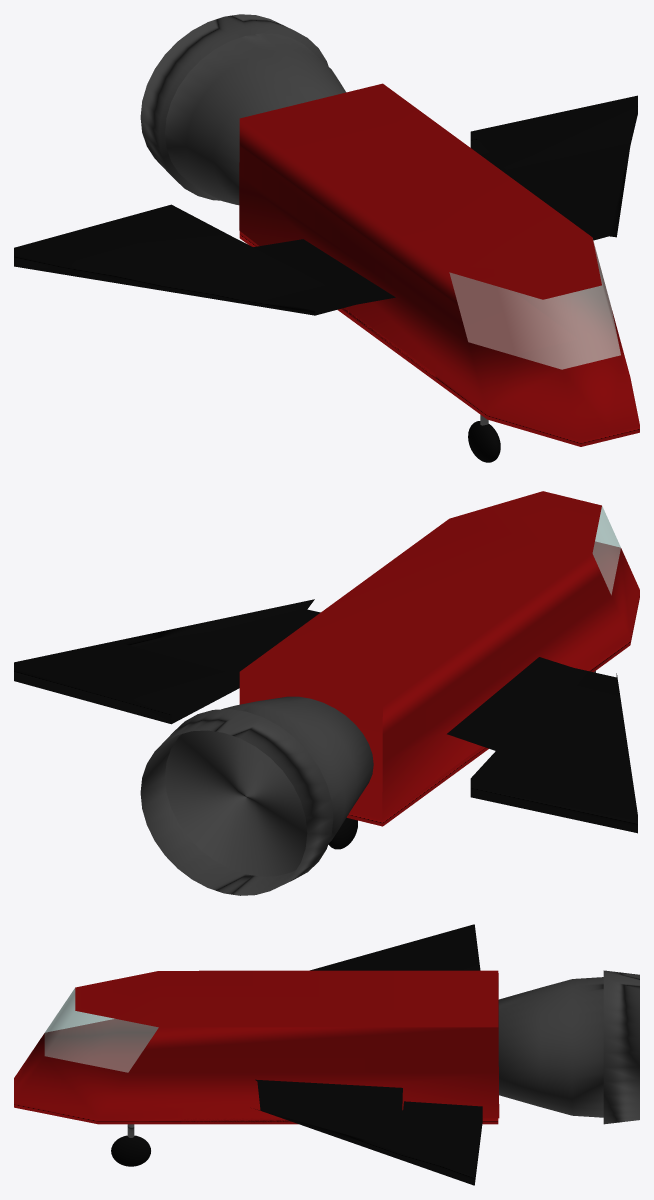
File: Spaceship.fbx
3 renders of one model, top to bottom at view 1: azimuth 30°, elevation 25°; view 2: azimuth 150°, elevation 25°; view 3: azimuth 270°, elevation 25°, orthographic. The views are drawn at different scales.
Parts seen in each view (by area): view 1: Body.011, Body.021, Body.006, Body.001, Body.012, Body.003, Body.002, Body, Body.017; view 2: Body.011, Body.021, Body.006, Body.003, Body.017, Body.002, Body.001, Body.012, Body; view 3: Body.011, Body.006, Body.021, Body.003, Body.001, Body.012, Body, Body.017.
Part boxes in pixels (bbox=[...]): Body.011: bbox=[239, 83, 639, 446]; Body.021: bbox=[14, 95, 637, 462]; Body.006: bbox=[140, 14, 346, 205]; Body.001: bbox=[450, 245, 620, 369]; Body.012: bbox=[450, 246, 620, 369]; Body.003: bbox=[470, 132, 629, 237]; Body.002: bbox=[253, 244, 395, 315]; Body: bbox=[514, 241, 620, 358]; Body.017: bbox=[141, 14, 326, 199]; Body.011: bbox=[239, 491, 639, 826]; Body.021: bbox=[14, 604, 637, 849]; Body.006: bbox=[140, 696, 373, 895]; Body.003: bbox=[145, 599, 320, 721]; Body.017: bbox=[141, 709, 332, 895]; Body.002: bbox=[485, 657, 619, 725]; Body.001: bbox=[593, 506, 620, 594]; Body.012: bbox=[593, 506, 620, 593]; Body: bbox=[592, 541, 620, 583]; Body.011: bbox=[14, 970, 499, 1124]; Body.006: bbox=[498, 970, 639, 1124]; Body.021: bbox=[111, 924, 482, 1185]; Body.003: bbox=[255, 1079, 402, 1148]; Body.001: bbox=[45, 988, 158, 1072]; Body.012: bbox=[45, 989, 157, 1071]; Body: bbox=[44, 973, 498, 1063]; Body.017: bbox=[603, 970, 639, 1123].
Bounding box in the file's own units: 3486 × 1098 × 3741.
